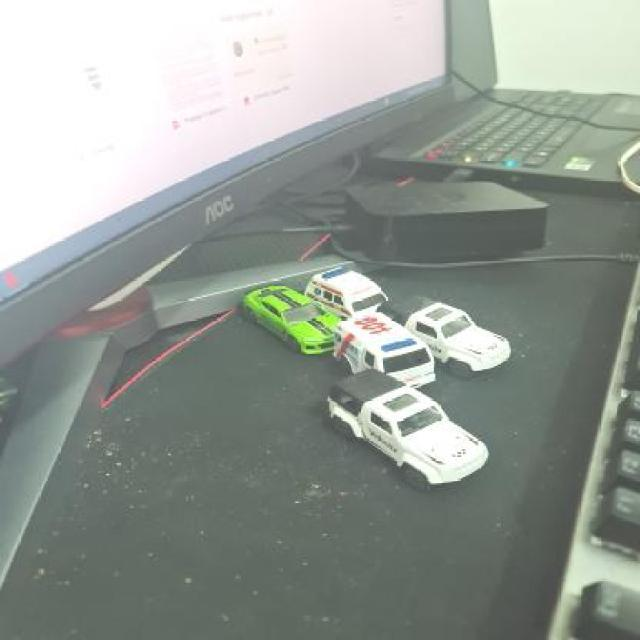car: (313, 369, 510, 489), (387, 290, 516, 372), (329, 312, 440, 391), (242, 280, 350, 356), (298, 265, 388, 321)
